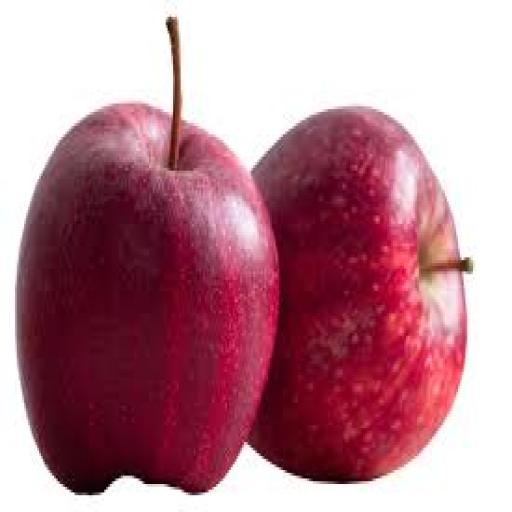apple: (17, 84, 279, 492), (252, 107, 471, 481)
